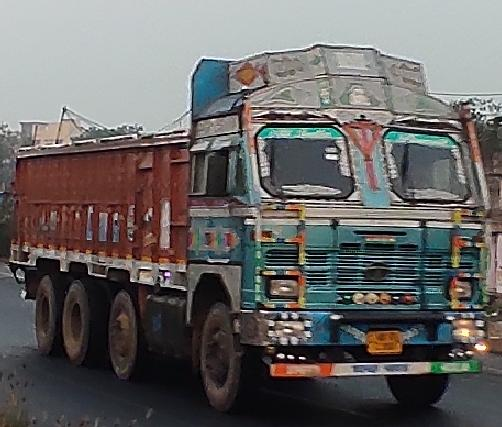Truck: (18, 40, 492, 414)
